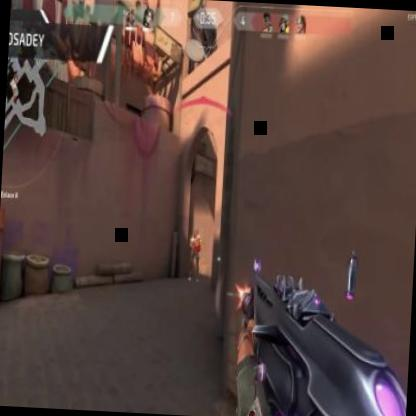enemy: (186, 225, 201, 282)
enemy_head: (194, 226, 198, 235)
